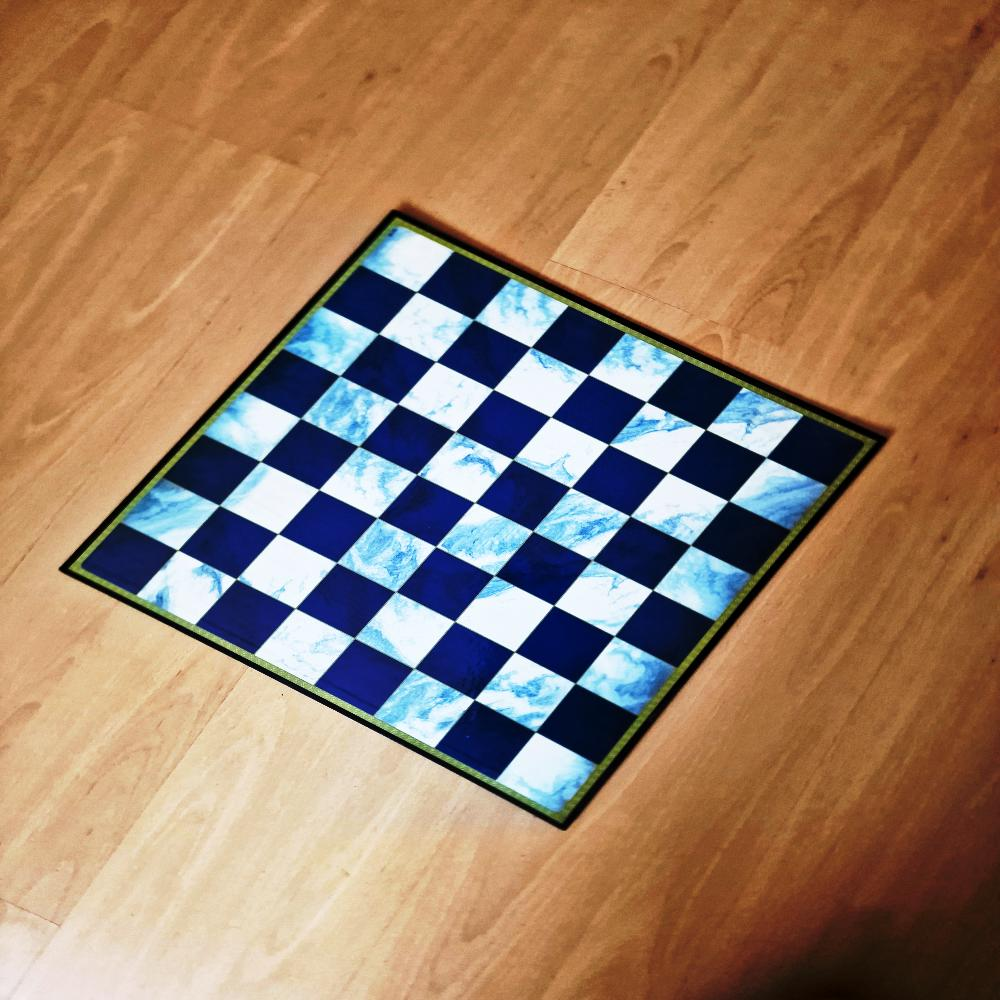chessfield: (496, 735, 604, 831), (575, 637, 680, 723), (477, 656, 579, 738), (537, 686, 638, 766), (654, 545, 755, 625), (351, 219, 454, 297), (354, 592, 455, 671), (117, 482, 221, 557), (729, 459, 829, 537), (237, 534, 337, 612), (375, 670, 477, 746), (66, 526, 175, 597), (437, 702, 536, 780), (556, 563, 654, 641), (257, 611, 357, 687), (200, 392, 304, 465), (516, 609, 613, 687), (615, 592, 714, 668), (456, 578, 554, 654), (338, 520, 437, 595), (278, 307, 380, 379), (222, 463, 320, 537), (322, 450, 420, 524), (707, 388, 806, 461), (144, 552, 240, 627), (532, 491, 629, 565), (415, 625, 512, 699), (610, 403, 708, 476), (300, 380, 399, 452), (631, 473, 727, 547), (692, 505, 789, 578), (416, 432, 513, 505), (199, 581, 296, 654), (317, 640, 415, 712), (398, 551, 493, 624), (380, 293, 476, 365), (436, 508, 532, 580), (474, 281, 569, 353), (280, 494, 376, 565), (180, 510, 276, 581), (514, 417, 610, 488), (399, 362, 495, 433), (597, 519, 691, 591), (299, 567, 393, 639), (588, 335, 682, 407), (671, 430, 766, 501), (495, 350, 590, 421), (165, 435, 261, 505), (498, 534, 592, 605), (381, 477, 476, 547), (771, 416, 865, 485), (342, 338, 436, 407), (262, 421, 354, 491), (480, 462, 572, 532), (553, 379, 646, 448), (457, 393, 550, 461), (573, 450, 666, 518), (439, 322, 531, 389), (652, 362, 744, 429), (326, 266, 418, 333), (532, 307, 622, 375), (417, 252, 507, 320), (363, 408, 453, 475), (252, 351, 342, 416)
